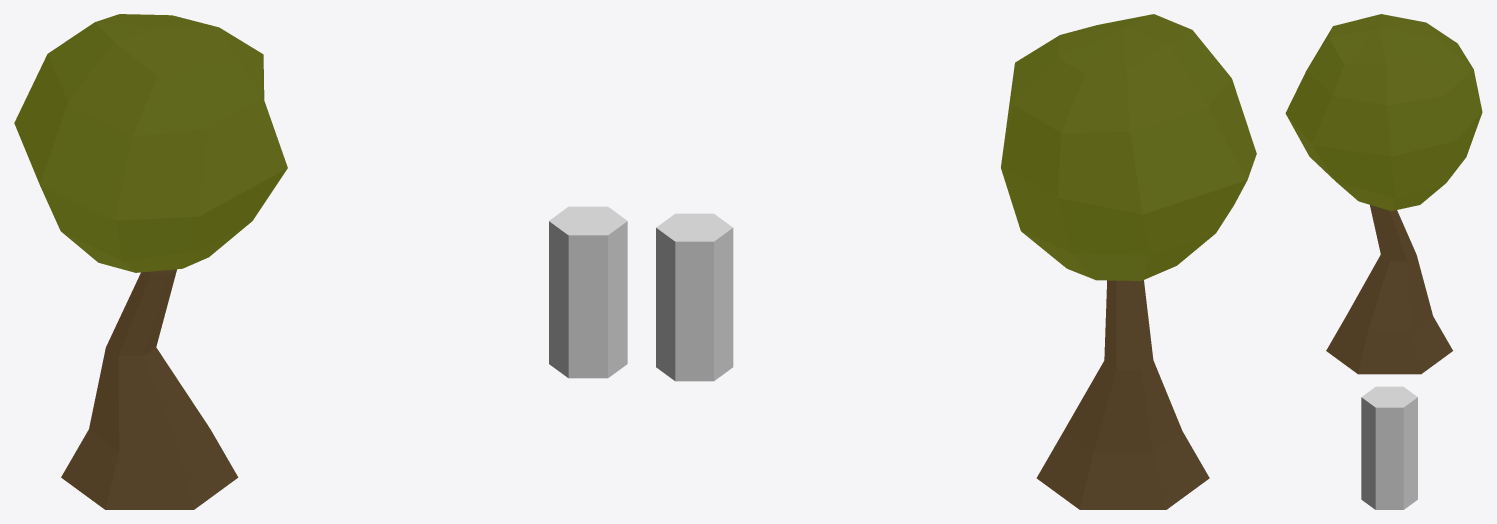
File: green_tree.glb
The picture shows the model from 3 angles, left to right: view 1: azimuth 30°, elevation 25°; view 2: azimuth 150°, elevation 25°; view 3: azimuth 270°, elevation 25°; orthographic projection. The views are drawn at different scales.
Parts seen in each view (by area): view 1: leaves, trunk, Cylinder; view 2: leaves, trunk, Cylinder; view 3: leaves, trunk, Cylinder.
Part boxes in pixels (box(x1,y1,x2,y2)): leaves: box(14, 14, 287, 272); trunk: box(61, 269, 238, 509); Cylinder: box(549, 206, 627, 378); leaves: box(1001, 14, 1256, 280); trunk: box(1036, 280, 1209, 509); Cylinder: box(656, 213, 733, 381); leaves: box(1285, 14, 1482, 211); trunk: box(1326, 205, 1452, 374); Cylinder: box(1361, 386, 1417, 509).
Bounding box in the file's own units: 8.59 × 6.35 × 3.49.
